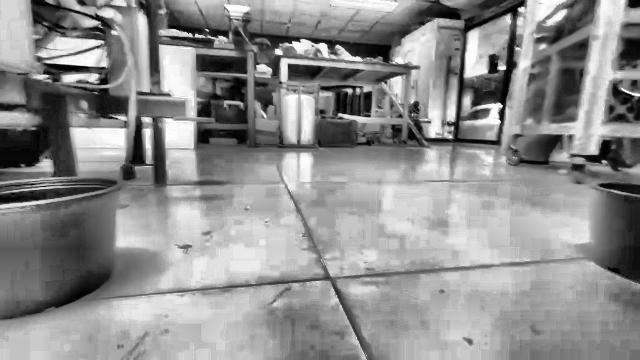pot: (0, 178, 120, 319), (594, 182, 639, 282)
